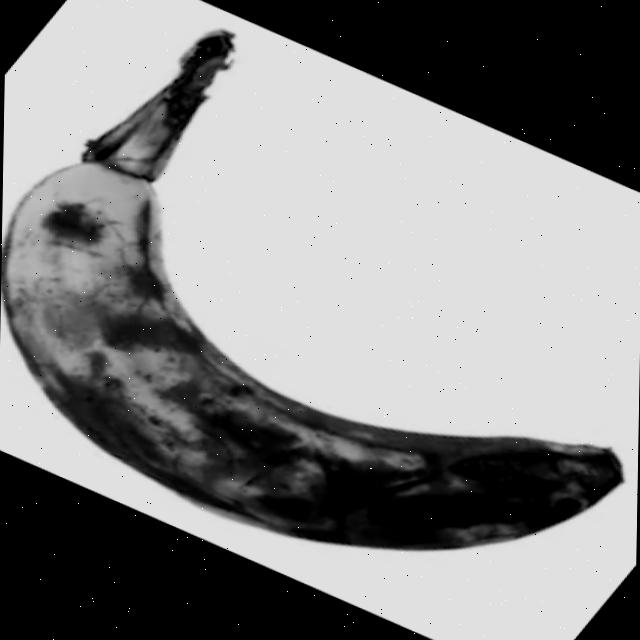overripe: (0, 124, 631, 559)
